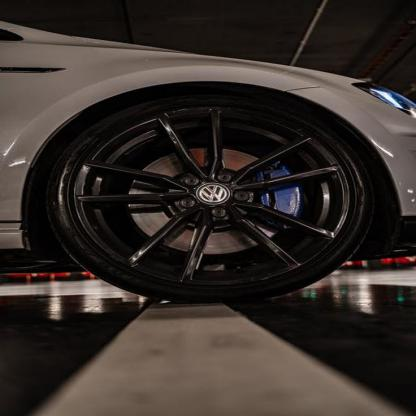Tire: (50, 94, 377, 304)
